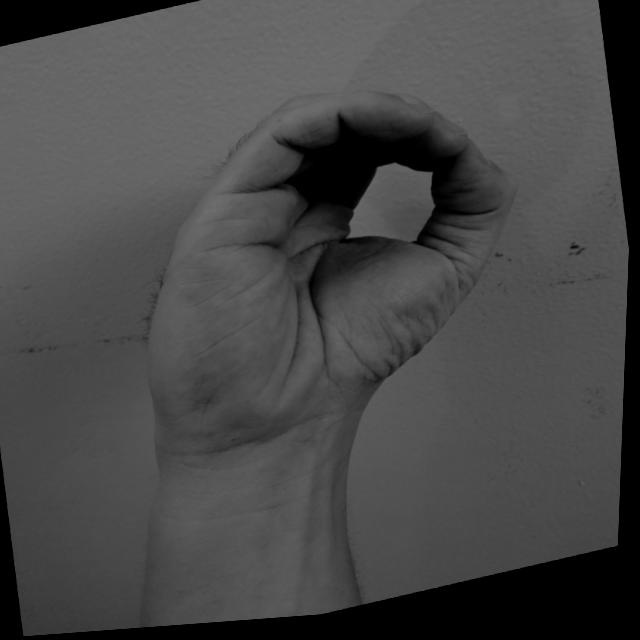O: (99, 45, 561, 478)
